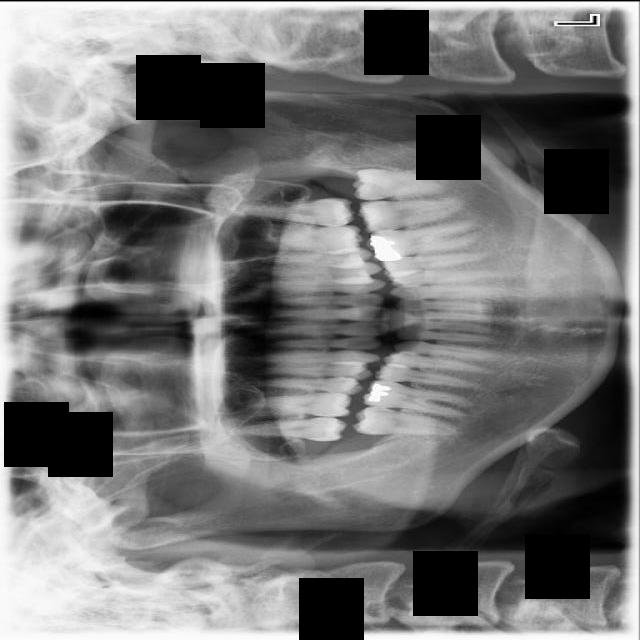52: (361, 373, 406, 414), (364, 226, 412, 264)
73: (576, 30, 596, 43)
BioHorizons Implant: (237, 196, 355, 229)
Biomet 3i Implant: (352, 166, 451, 205)
Blue Sky Bio Implant: (358, 197, 464, 233)
Caries: (230, 415, 345, 440)
Implant: (353, 405, 459, 436)
